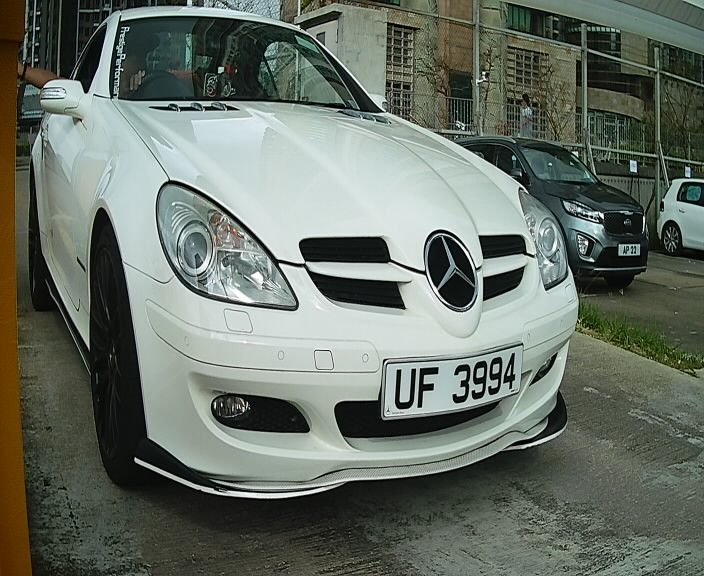Car: (50, 4, 606, 529)
License Plate: (374, 338, 541, 426)
